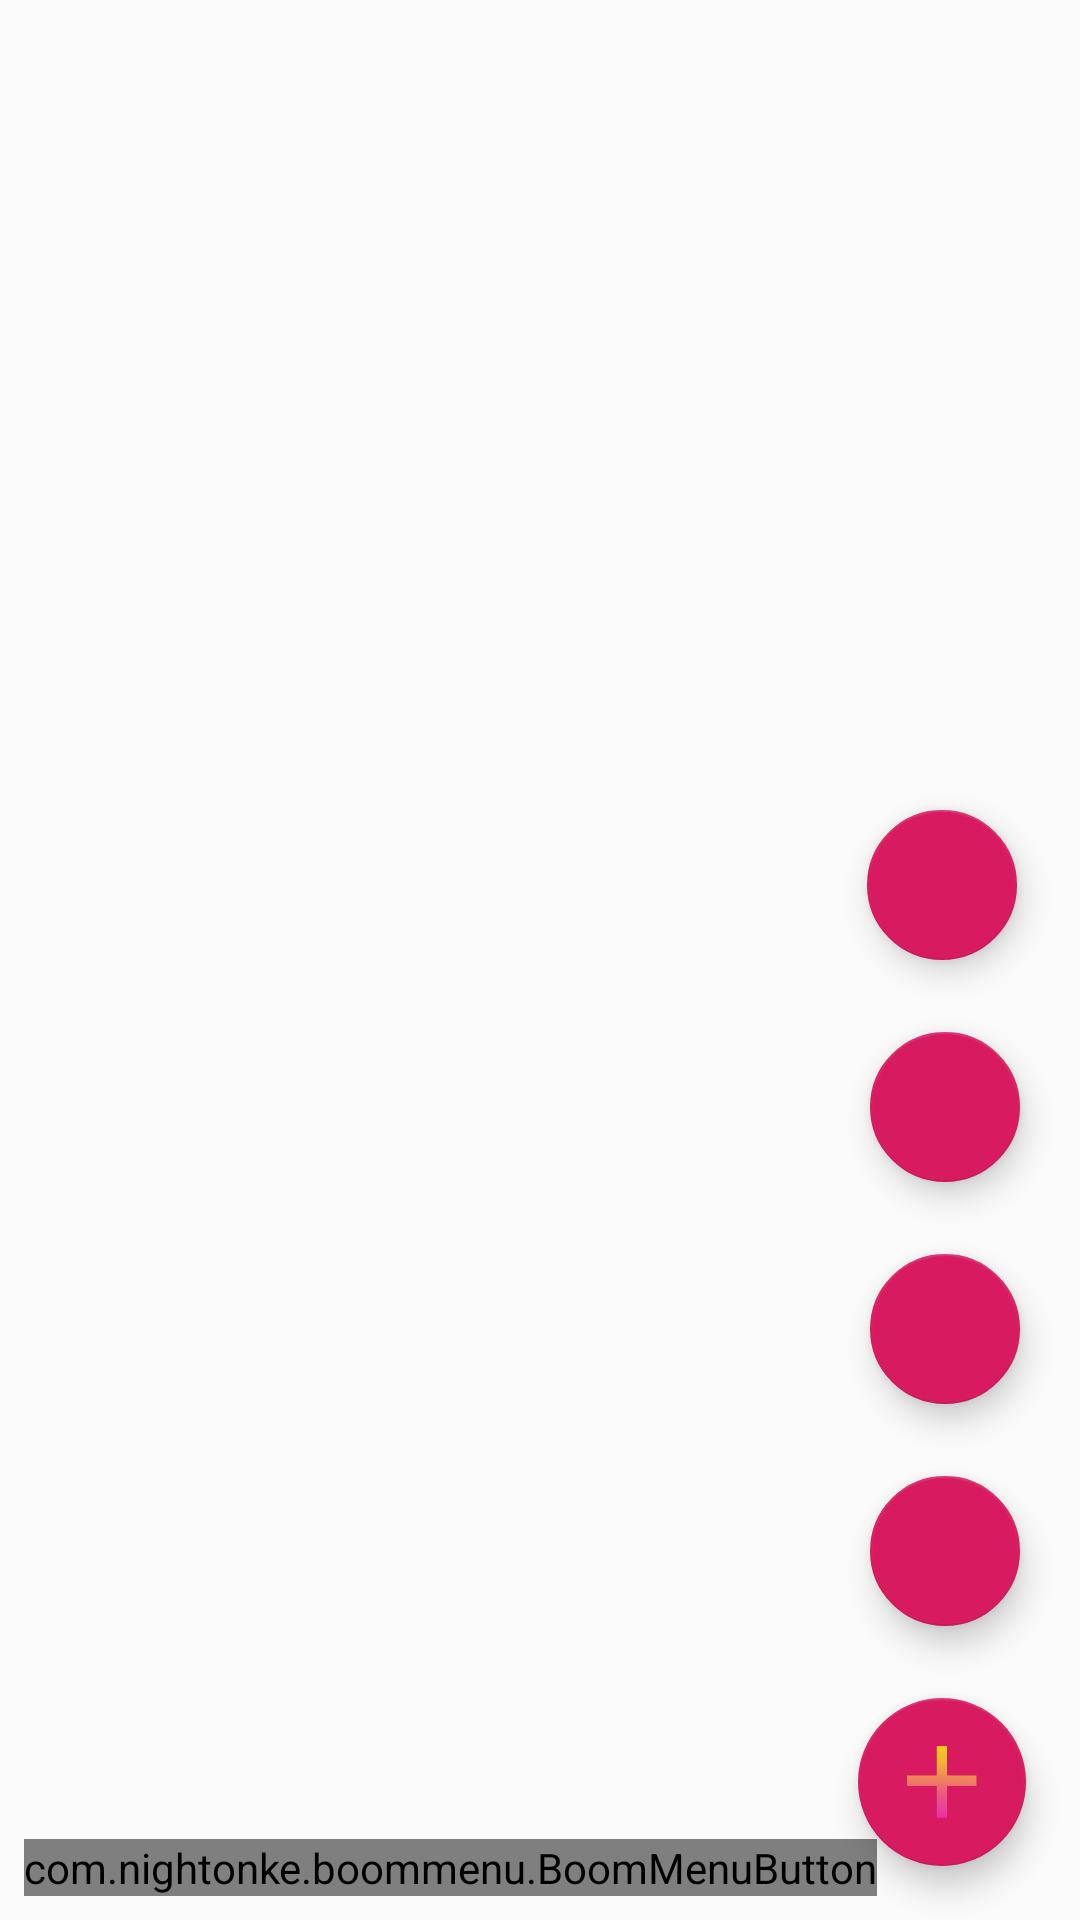

Icons on this 1080x1920 Android screen, each with the point to tap as (x=x, y=y):
plus only: (x=942, y=1782)
